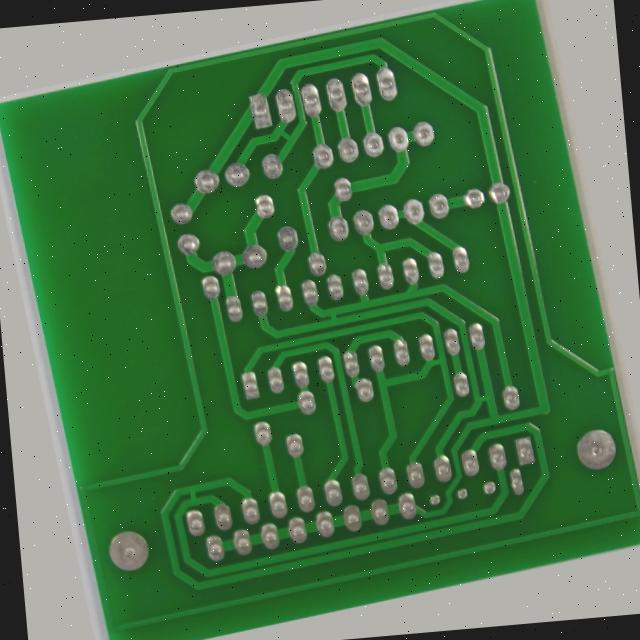short: (291, 92, 321, 124), (425, 366, 455, 396), (475, 414, 508, 441), (142, 479, 169, 510), (320, 303, 350, 328)
